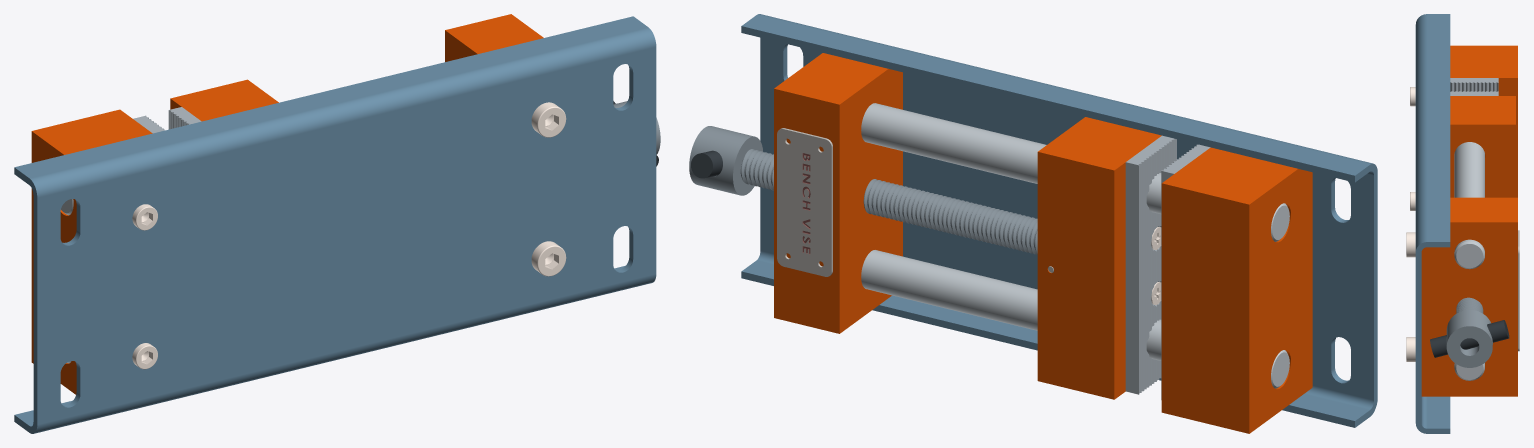
File: bench-vise.glb
The picture shows the model from 3 angles, left to right: view 1: azimuth 30°, elevation 25°; view 2: azimuth 150°, elevation 25°; view 3: azimuth 270°, elevation 25°; orthographic projection. The views are drawn at different scales.
Parts seen in each view (by area): view 1: VS-08 Base plate-2, VS-01 Fixed jaw block-1, VS-03 Rear bearing block-1, VS-02 Sliding jaw block-1, socket head cap screw_iso-4, socket head cap screw_iso-3; view 2: VS-08 Base plate-2, VS-01 Fixed jaw block-1, VS-02 Sliding jaw block-1, VS-03 Rear bearing block-1, VS-06 Lead screw-1, VS-05 Guide rod-1, VS-05 Guide rod-2, VS-04 Jaw plate-1, VS-09 Name plate-1, VS-04 Jaw plate-2, VS-07 Handle-1; view 3: VS-03 Rear bearing block-1, VS-08 Base plate-2, VS-02 Sliding jaw block-1, VS-01 Fixed jaw block-1, VS-06 Lead screw-1, VS-05 Guide rod-1, VS-07 Handle-1, VS-04 Jaw plate-2, VS-05 Guide rod-2, socket head cap screw_iso-3, socket head cap screw_iso-4, VS-09 Name plate-1 (+1 smaller).
Boxes of the visible parts, x1=… form: VS-08 Base plate-2: x1=14, y1=16, x2=656, y2=433; VS-01 Fixed jaw block-1: x1=31, y1=109, x2=152, y2=394; VS-03 Rear bearing block-1: x1=445, y1=14, x2=543, y2=61; VS-02 Sliding jaw block-1: x1=170, y1=79, x2=278, y2=121; socket head cap screw_iso-4: x1=531, y1=241, x2=566, y2=276; socket head cap screw_iso-3: x1=531, y1=102, x2=566, y2=137; VS-08 Base plate-2: x1=741, y1=14, x2=1377, y2=427; VS-01 Fixed jaw block-1: x1=1161, y1=147, x2=1312, y2=433; VS-02 Sliding jaw block-1: x1=1037, y1=117, x2=1161, y2=399; VS-03 Rear bearing block-1: x1=774, y1=53, x2=902, y2=333; VS-06 Lead screw-1: x1=689, y1=126, x2=1037, y2=254; VS-05 Guide rod-1: x1=861, y1=103, x2=1289, y2=241; VS-05 Guide rod-2: x1=861, y1=250, x2=1289, y2=388; VS-04 Jaw plate-1: x1=1125, y1=135, x2=1176, y2=394; VS-09 Name plate-1: x1=777, y1=128, x2=832, y2=276; VS-04 Jaw plate-2: x1=1161, y1=144, x2=1210, y2=399; VS-07 Handle-1: x1=691, y1=150, x2=722, y2=178; VS-03 Rear bearing block-1: x1=1421, y1=197, x2=1517, y2=396; VS-08 Base plate-2: x1=1415, y1=14, x2=1450, y2=433; VS-02 Sliding jaw block-1: x1=1450, y1=96, x2=1515, y2=197; VS-01 Fixed jaw block-1: x1=1450, y1=45, x2=1517, y2=197; VS-06 Lead screw-1: x1=1446, y1=297, x2=1492, y2=367; VS-05 Guide rod-1: x1=1454, y1=142, x2=1484, y2=269; VS-07 Handle-1: x1=1430, y1=320, x2=1509, y2=357; VS-04 Jaw plate-2: x1=1450, y1=78, x2=1498, y2=91; VS-05 Guide rod-2: x1=1454, y1=363, x2=1484, y2=380; socket head cap screw_iso-3: x1=1406, y1=232, x2=1415, y2=257; socket head cap screw_iso-4: x1=1406, y1=337, x2=1415, y2=361; VS-09 Name plate-1: x1=1518, y1=230, x2=1519, y2=351.
Size of the model in its own units: 0.2912 by 0.11 by 0.059.
